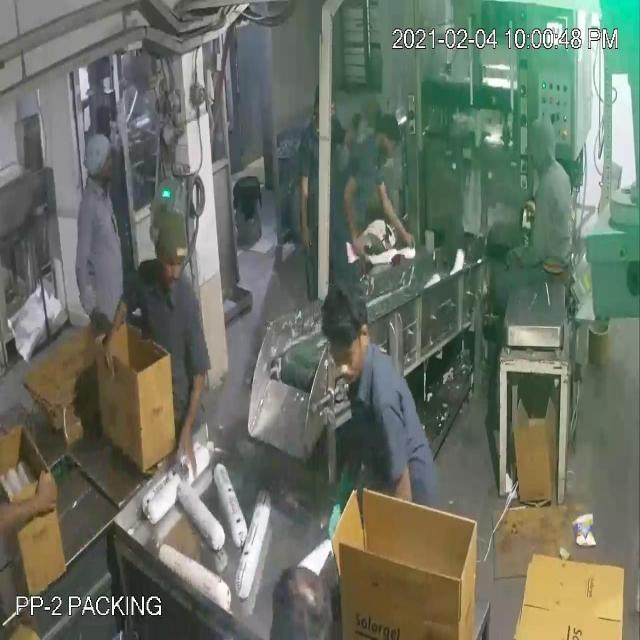No_Gloves: (22, 75, 394, 500)
